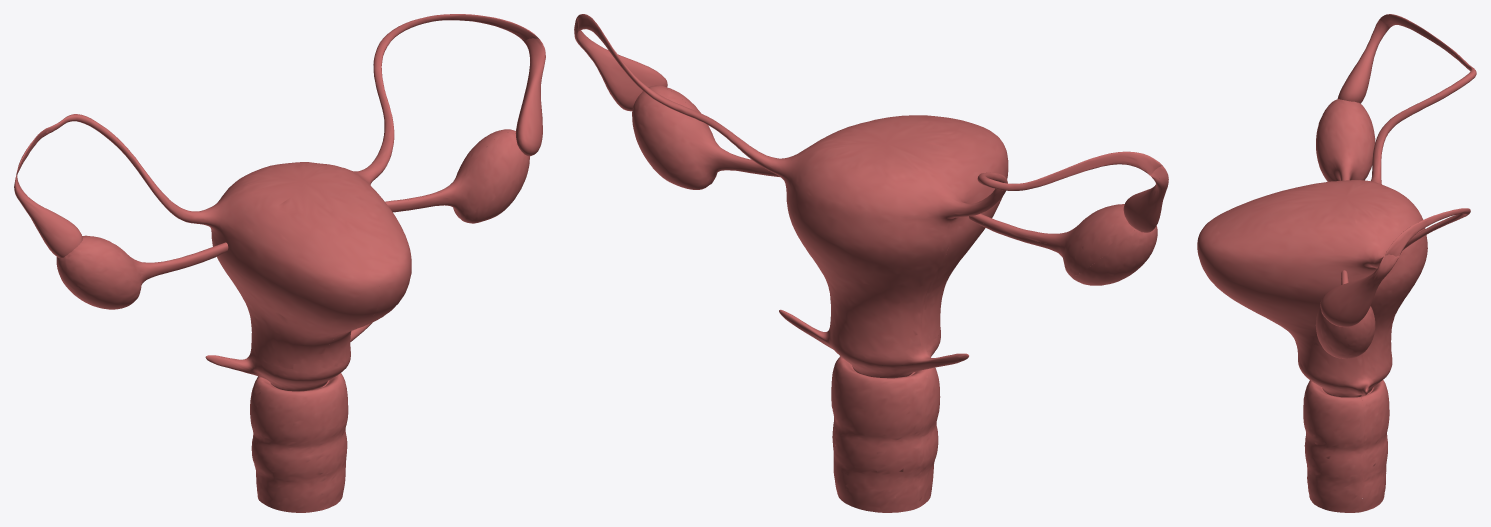
The model's file is female.glb.
3 views of the same model, side by side, from view 1: azimuth 30°, elevation 25°; view 2: azimuth 150°, elevation 25°; view 3: azimuth 270°, elevation 25° (orthographic). The views are drawn at different scales.
Parts seen in each view (by area): view 1: utrus; view 2: utrus; view 3: utrus.
Part boxes in pixels (x1,y1,x2,y2): utrus: (14, 14, 545, 512); utrus: (574, 14, 1168, 512); utrus: (1197, 14, 1476, 512).
Bounding box in the file's own units: 2.88 × 2.06 × 1.39.
